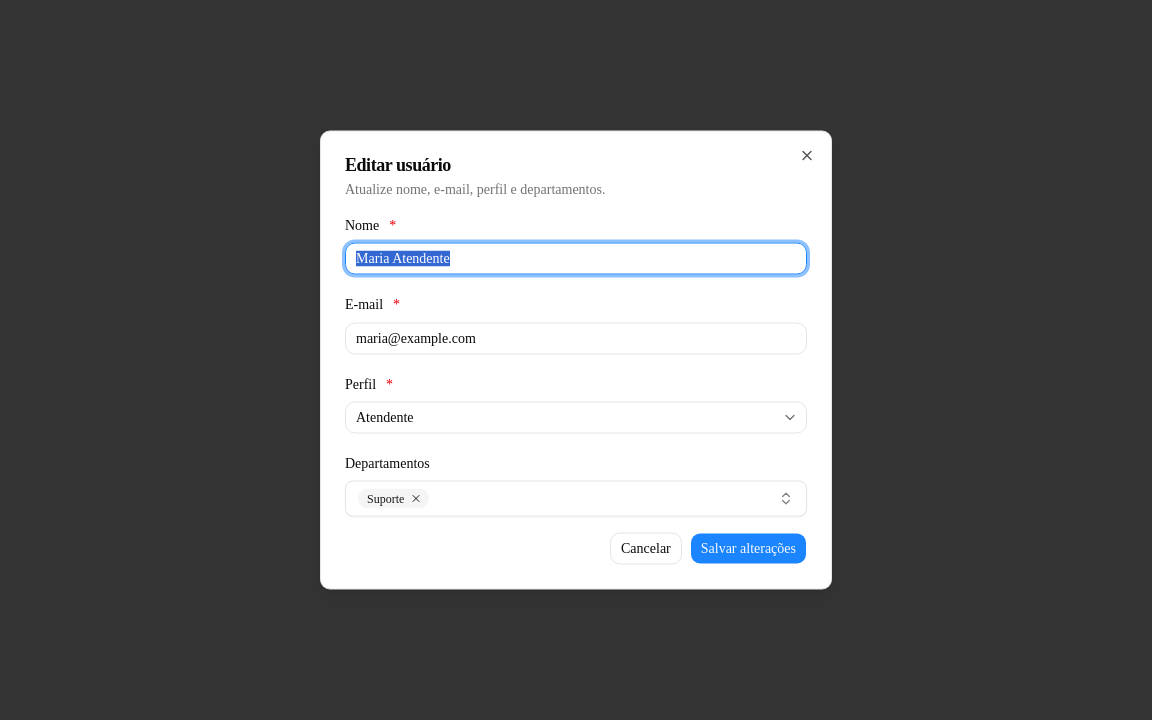
Scenario: UserDialog › valida formato de e-mail
Replace the text in the field labelled "E-mail *" with "nao-eh-email" at (576, 338), box [345,322,807,354]
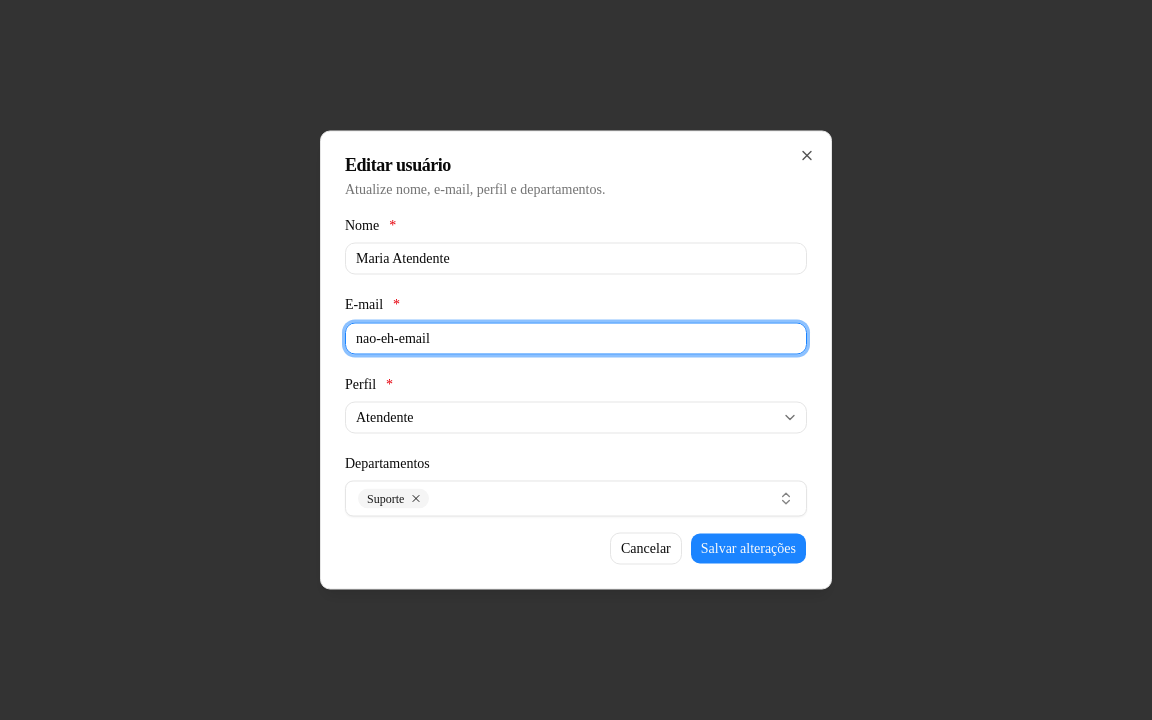
Click the button "Salvar alterações" at (748, 548), box [690,532,807,564]
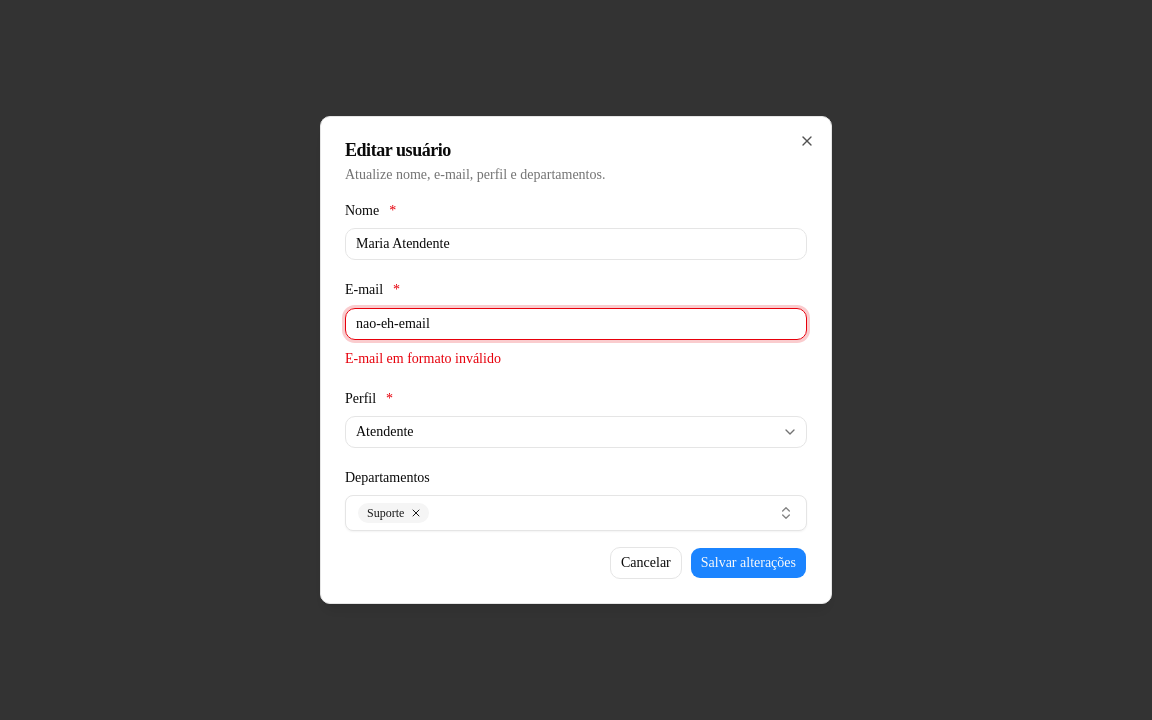
Now the text "E-mail em formato inválido" is shown, box [345,350,501,366]
